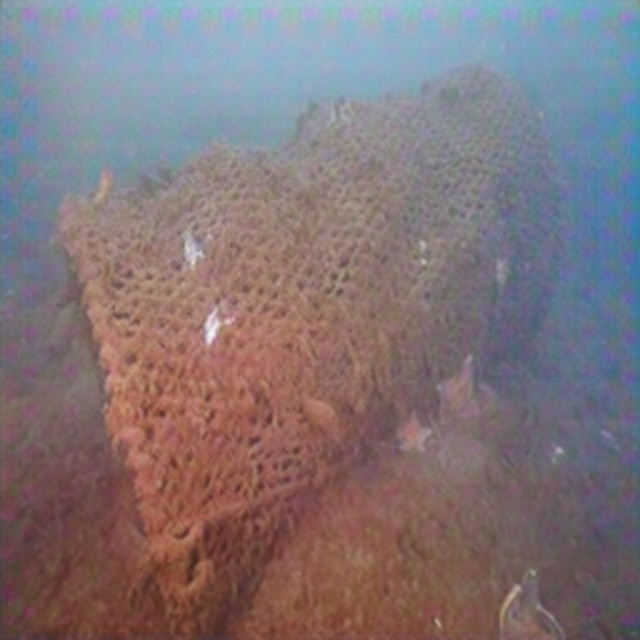mine: (54, 57, 564, 636)
